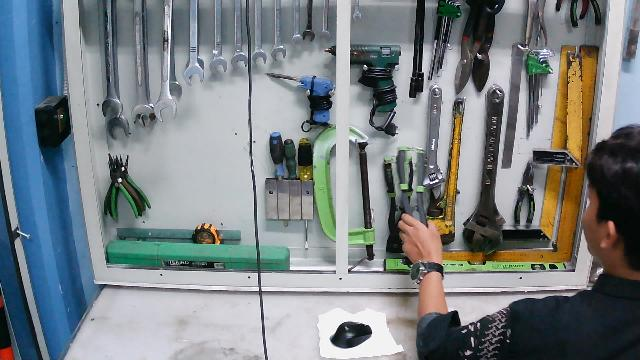tang_rivet: (393, 143, 434, 241)
